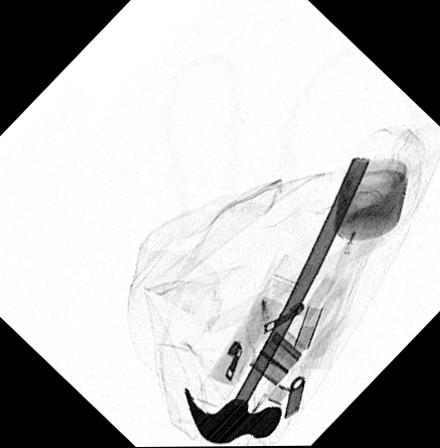Hammer: (181, 156, 369, 443)
